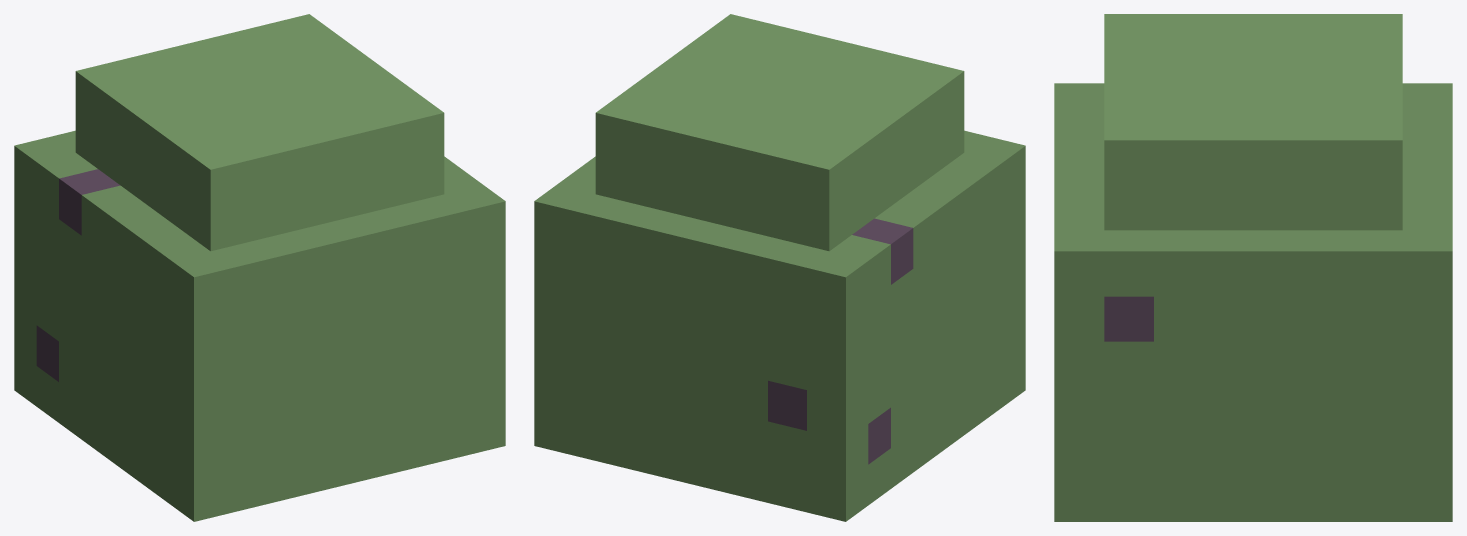
Rendered from grosella_negra_04.glb.
The picture shows the model from 3 angles, left to right: view 1: azimuth 30°, elevation 25°; view 2: azimuth 150°, elevation 25°; view 3: azimuth 270°, elevation 25°; orthographic projection. The views are drawn at different scales.
Parts seen in each view (by area): view 1: grosella_negra_04; view 2: grosella_negra_04; view 3: grosella_negra_04.
Boxes of the visible parts, x1,y1,x2,y2 form: grosella_negra_04: [14, 14, 505, 521]; grosella_negra_04: [534, 14, 1025, 521]; grosella_negra_04: [1054, 14, 1452, 521].
Bounding box in the file's own units: 0.8 × 0.8 × 0.8.
